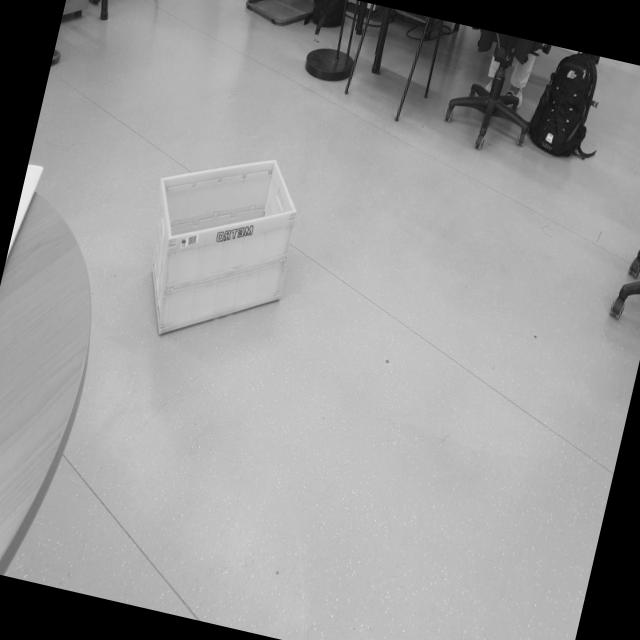box: (121, 115, 316, 376)
